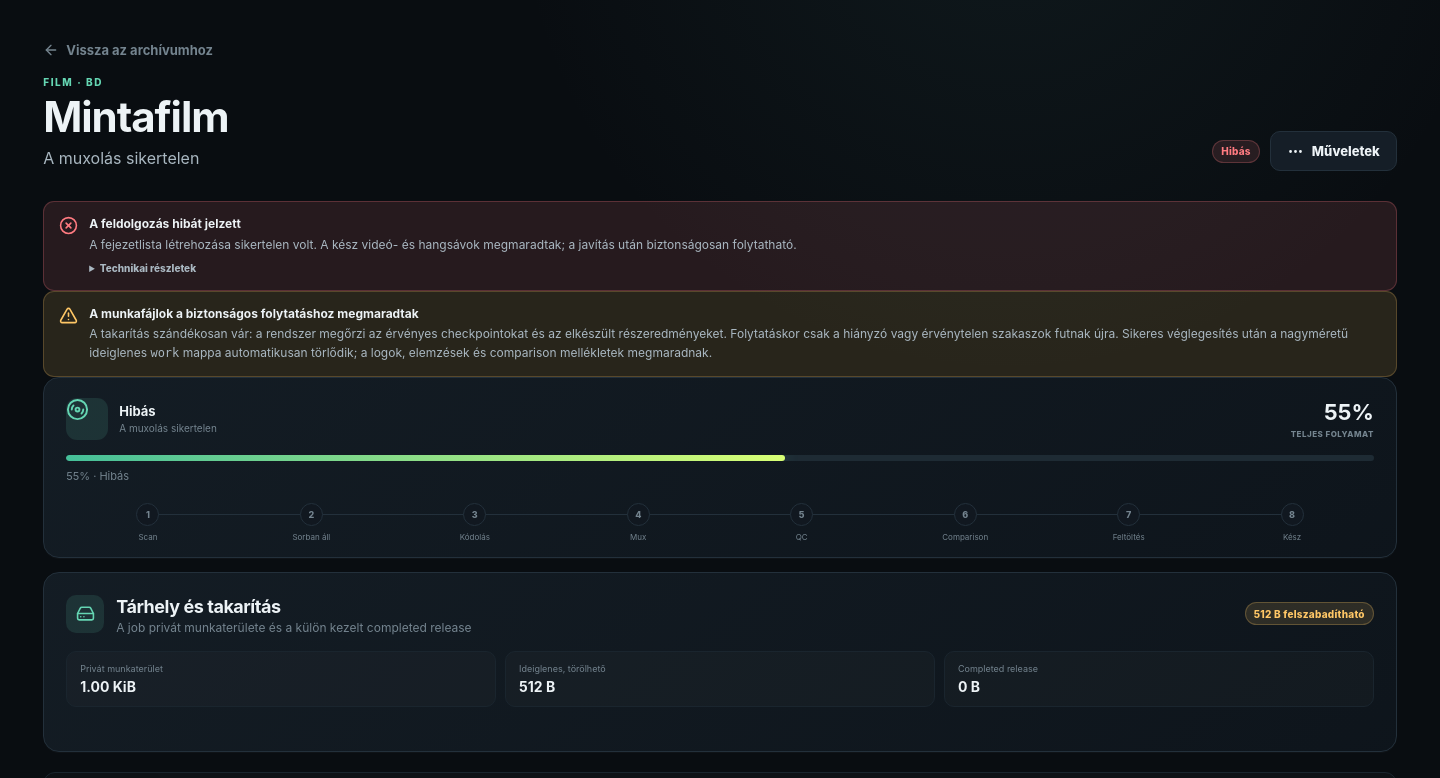
JobDetailPage failed-job retry › keeps the confirmation open and shows the backend error
Click the heading "Műveletek" at (1333, 151), box [1270,131,1397,171]
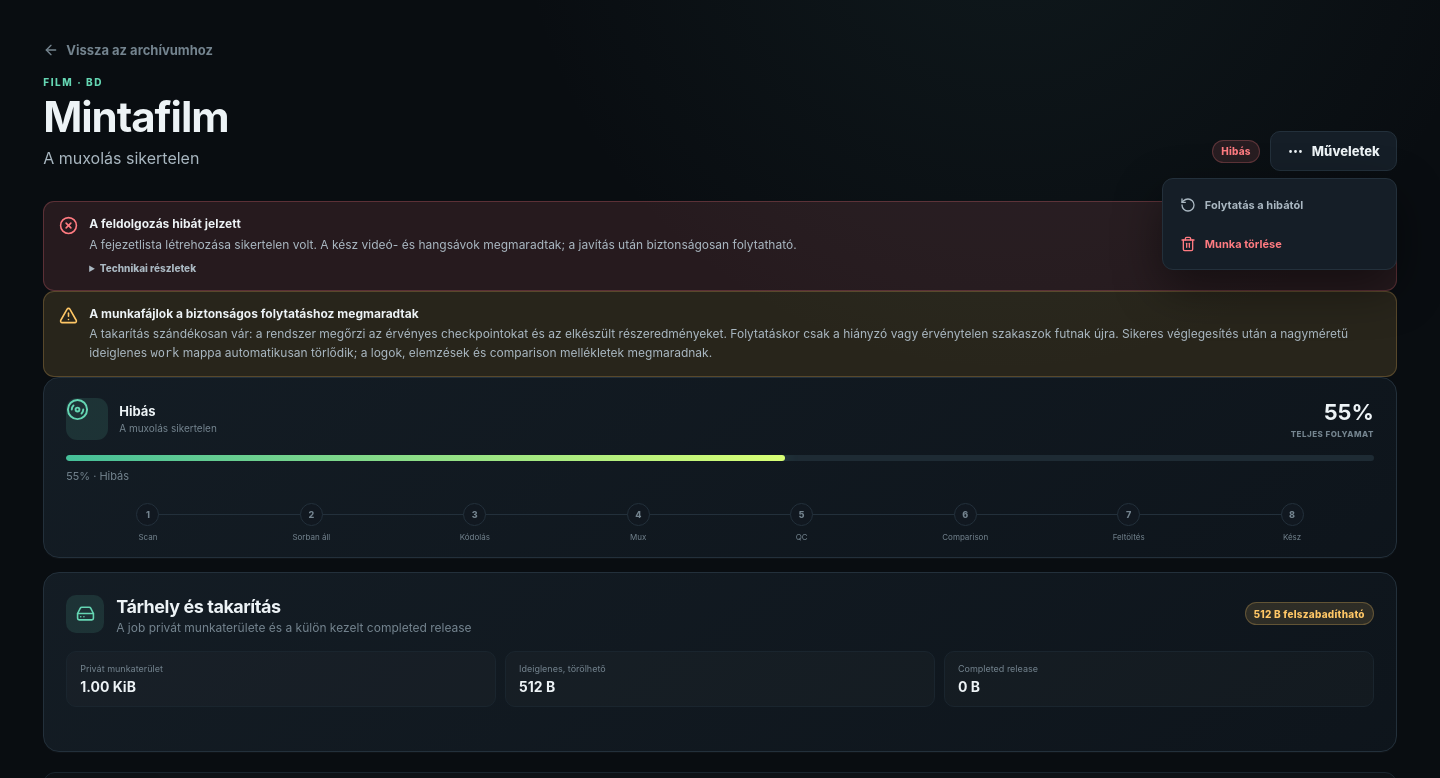
Click the button "Folytatás a hibától" at (1279, 205), box [1169,185,1390,224]
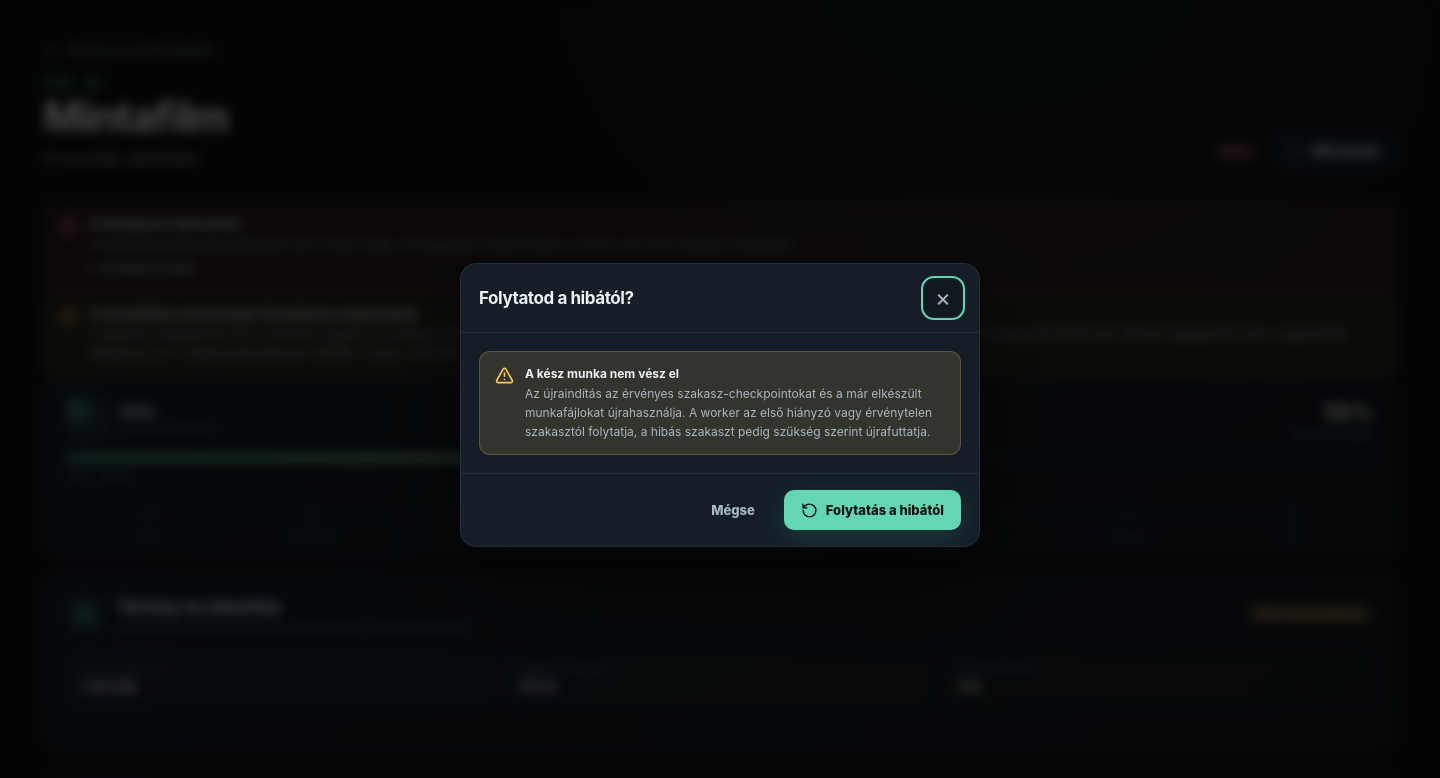
Click the button "Folytatás a hibától" at (872, 510), box [784,490,961,530]
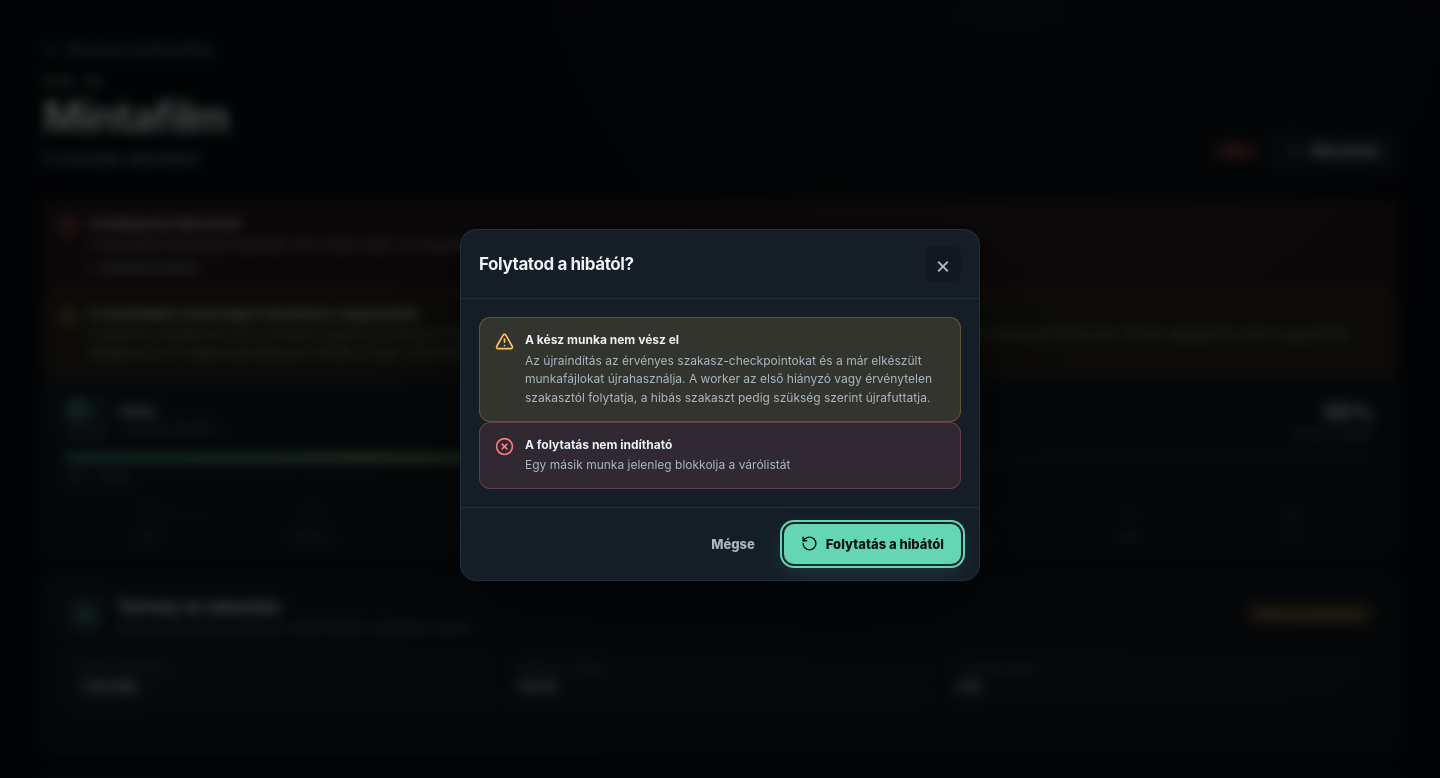
Expected: the dialog "Folytatod a hibától?" is shown, [460,229,980,581]
Expected: the text "A folytatás nem indítható" is shown, [525,437,672,452]
Expected: the text "Egy másik munka jelenleg blokkolja a várólistát" is shown, [525,456,790,475]
